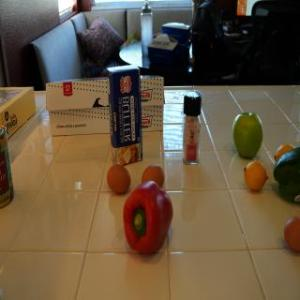bell_pepper: (114, 182, 184, 256), (270, 147, 300, 204)
egg: (105, 164, 131, 194), (284, 215, 300, 255), (139, 165, 166, 187)
